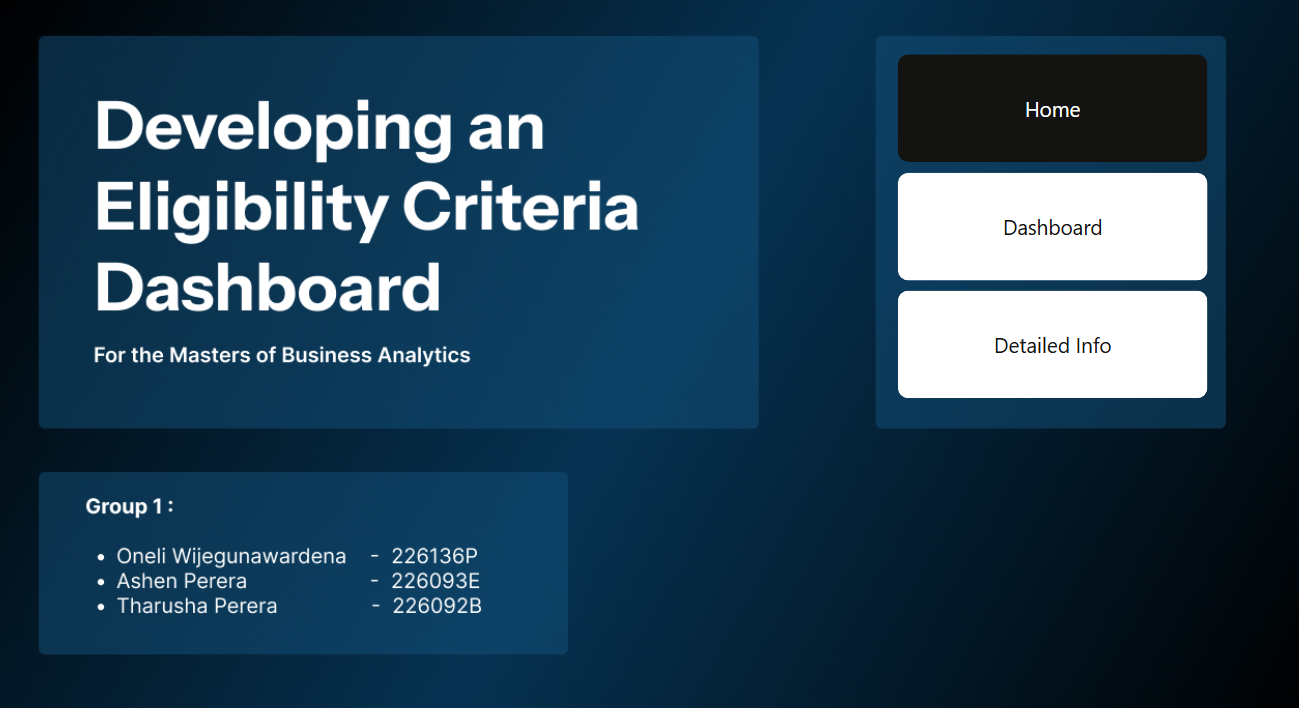

The dashboard page shown, as its layout file describes it:
{"tool":"powerbi","page":{"name":"Home","canvas":[1280,720],"ordinal":0},"visuals":[{"type":"pageNavigator","box":[876.9,69.2,299.7,332.5],"z":0}]}

Visuals, with their boxes on the page's 1280x720 design canvas (x1, y1, x2, y2). These are canvas units, not pixel positions in the 1299x708 screenshot, which may show the page scaled, cropped or inside an application window:
pageNavigator: 877/69/1177/402
